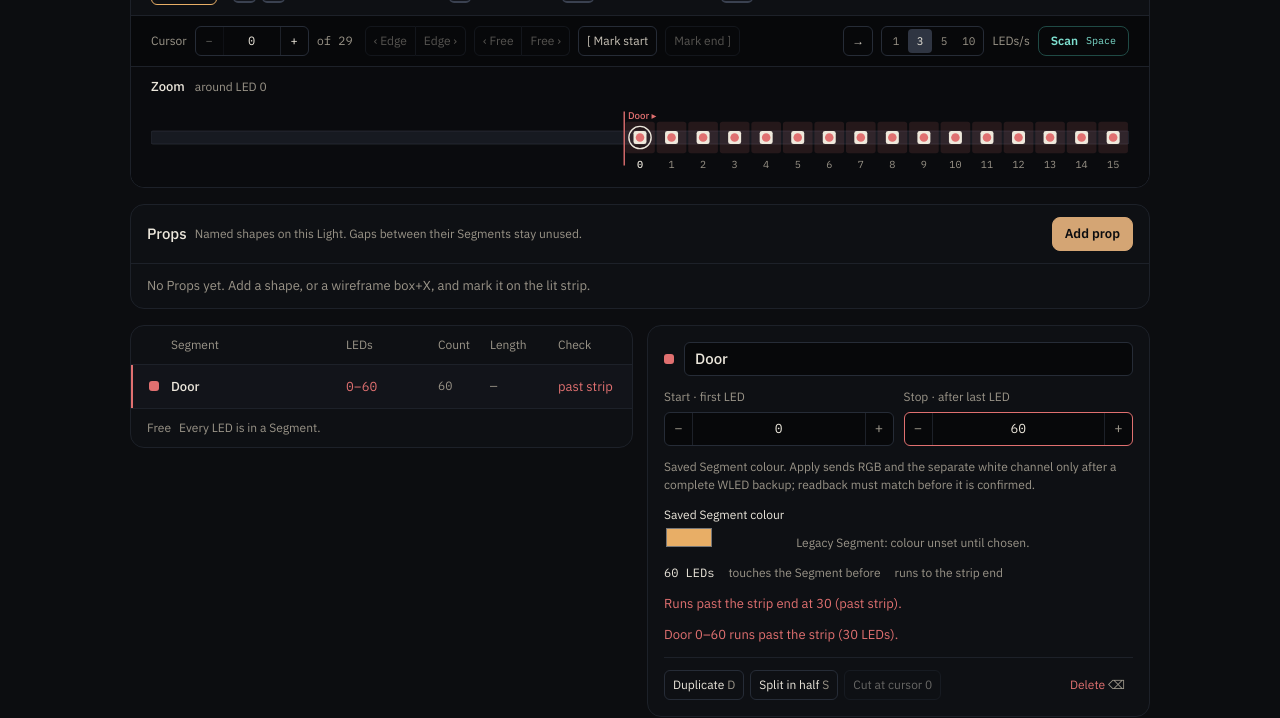
it: LightDetail Segments after length change › does not claim declared ranges still match when they run past the strip
The image size is (1280, 718).
(page scrolled)
Expected: the text "Runs past the strip end at 30 (past strip)." is shown, [664, 595, 902, 612]
Replace the text in the field named "Segment label" with "Door edited" at {"x": 908, "y": 359}, box [684, 342, 1133, 376]
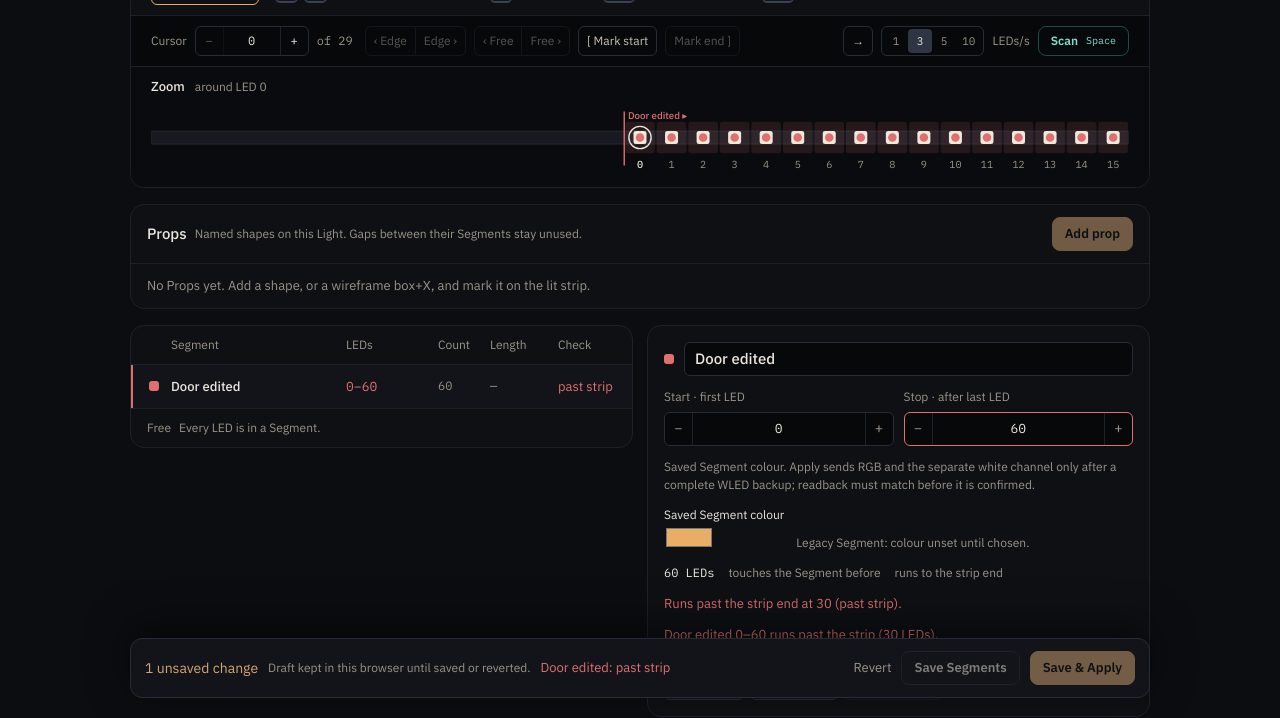
Now the button "Save Segments" is disabled, box [902, 651, 1020, 685]
Now the button "Save & Apply" is disabled, box [1030, 651, 1135, 685]
